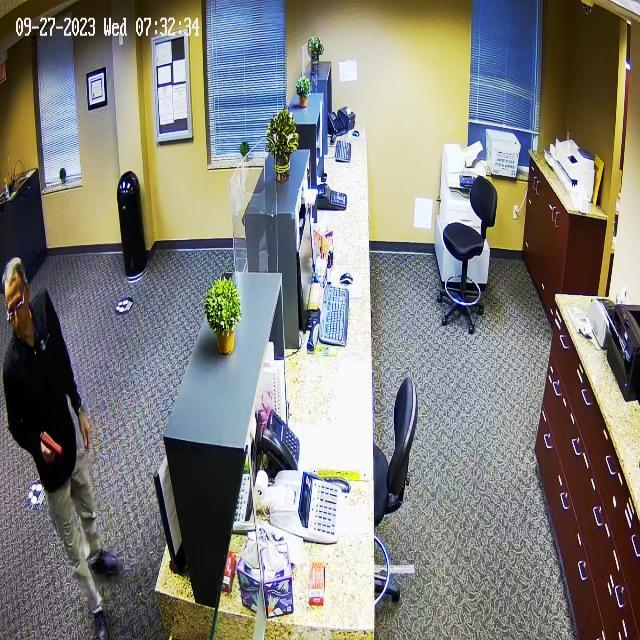Gun: (31, 431, 74, 462)
